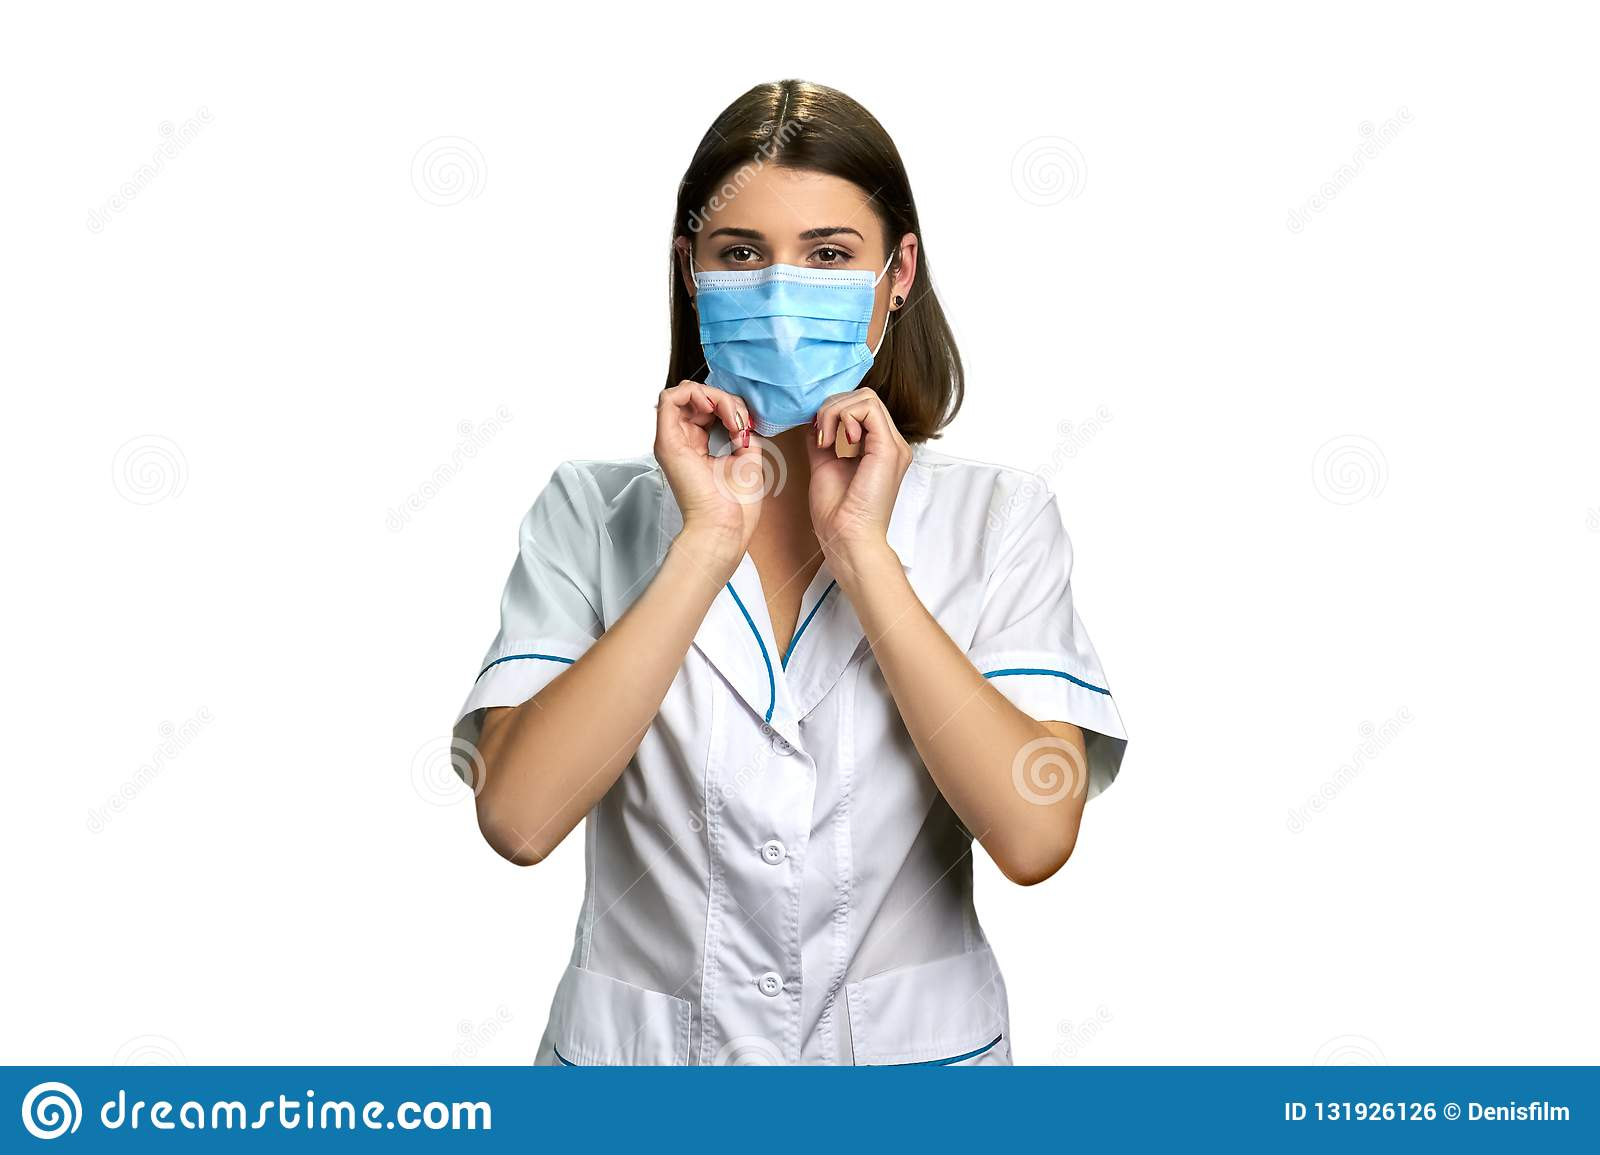mask: (693, 269, 882, 430)
